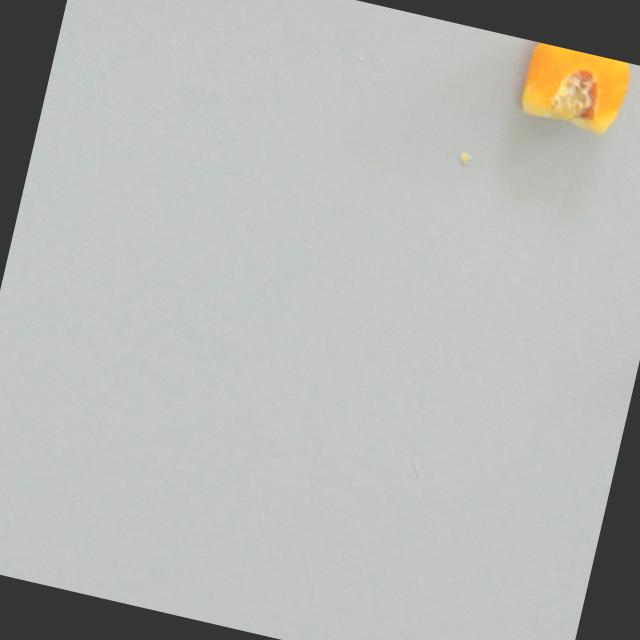dañado: (509, 40, 639, 147)
